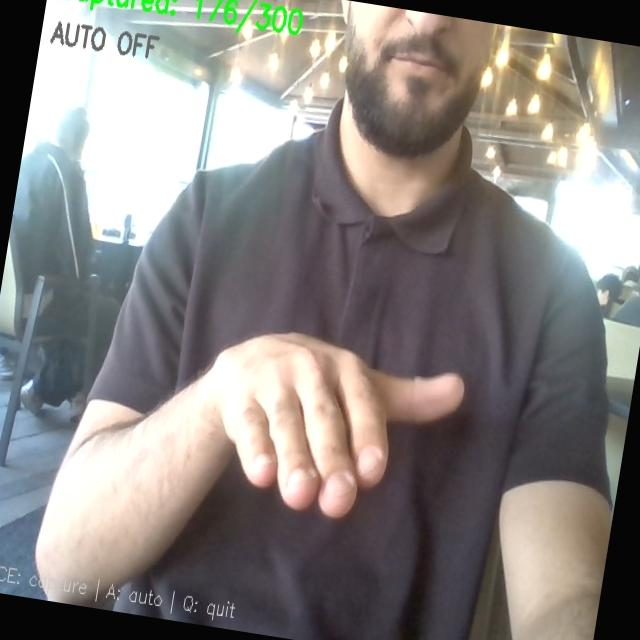Hand: (206, 334, 463, 518)
